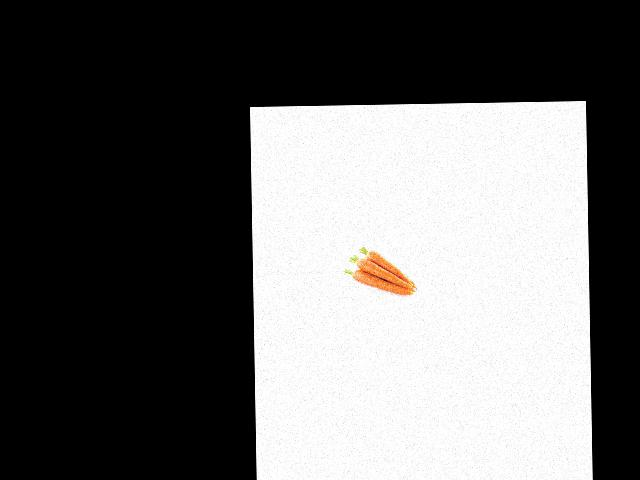carrot: (354, 267, 411, 295)
